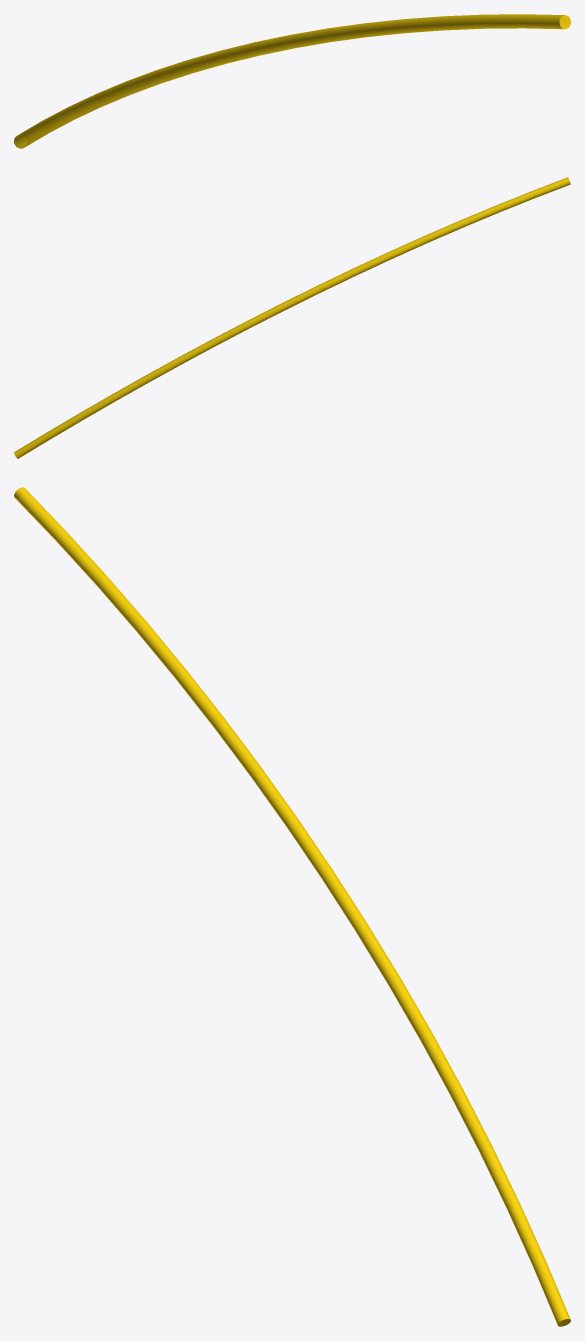
File: Event_421364160_track_4.fbx
3 views of the same model, one above another, from view 1: azimuth 90°, elevation 25°; view 2: azimuth 150°, elevation 25°; view 3: azimuth 270°, elevation 25° (orthographic). The views are drawn at different scales.
Parts seen in each view (by area): view 1: Model; view 2: Model; view 3: Model.
Boxes of the visible parts, bbox=[...] form: Model: bbox=[14, 14, 570, 148]; Model: bbox=[14, 177, 570, 458]; Model: bbox=[14, 487, 570, 1326].
Bounding box in the file's own units: 2.4 × 1.51 × 1.57.
